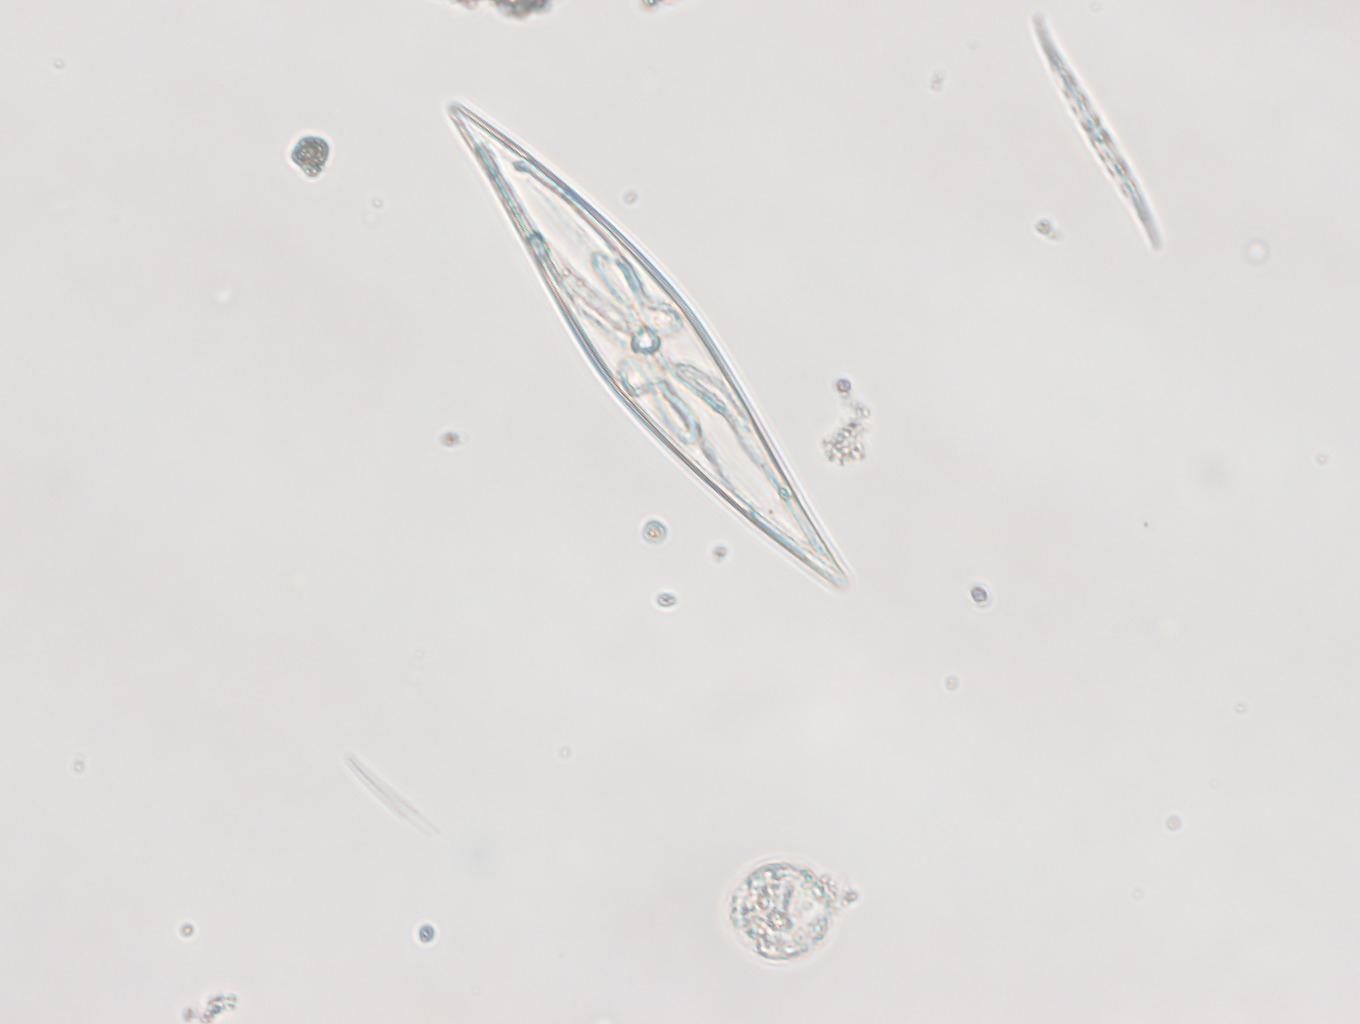pleurosigma pelagicum: (445, 102, 854, 598), (1028, 15, 1164, 257)
